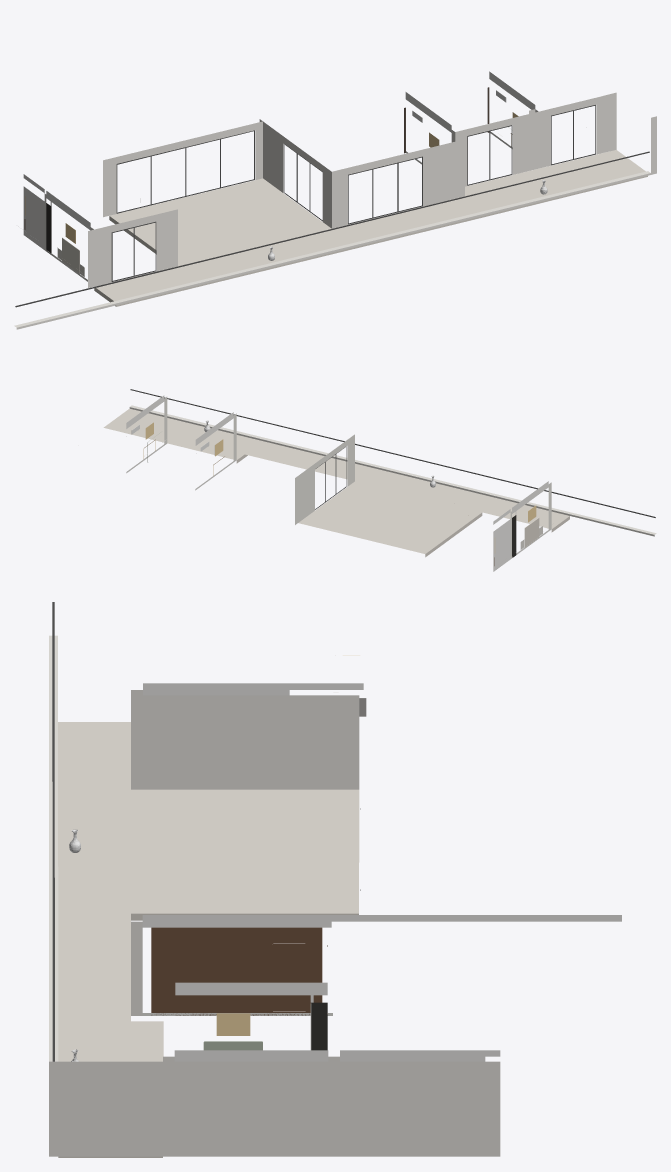
File: TERRACE.glb
3 views of the same model, one above another, from view 1: azimuth 30°, elevation 25°; view 2: azimuth 150°, elevation 25°; view 3: azimuth 270°, elevation 25° (orthographic). The views are drawn at different scales.
Visible parts, largest first — view 1: WEB_TERRACE; view 2: WEB_TERRACE; view 3: WEB_TERRACE.
Boxes of the visible parts, <box> form: WEB_TERRACE: <box>14,71,656,329</box>; WEB_TERRACE: <box>103,389,656,571</box>; WEB_TERRACE: <box>49,602,621,1157</box>.
Size of the model in its own units: 32.91 by 3.2 by 15.39.
